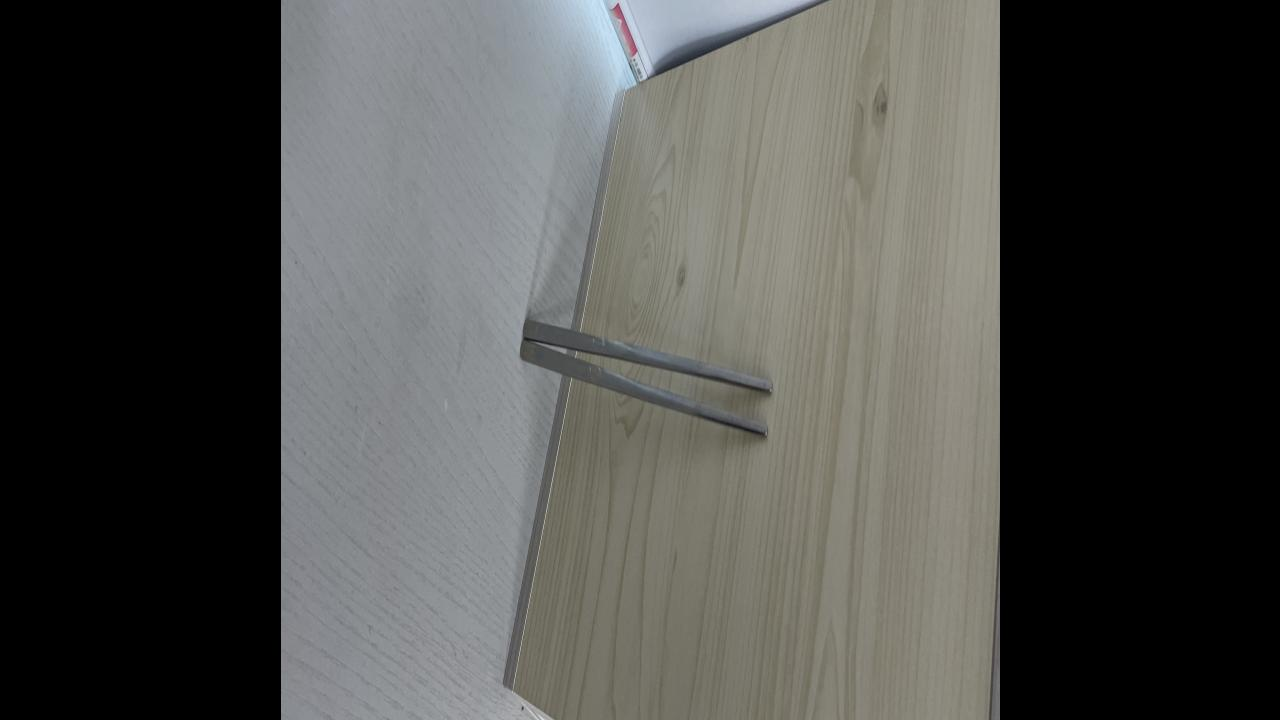chopstick: (520, 307, 769, 445)
